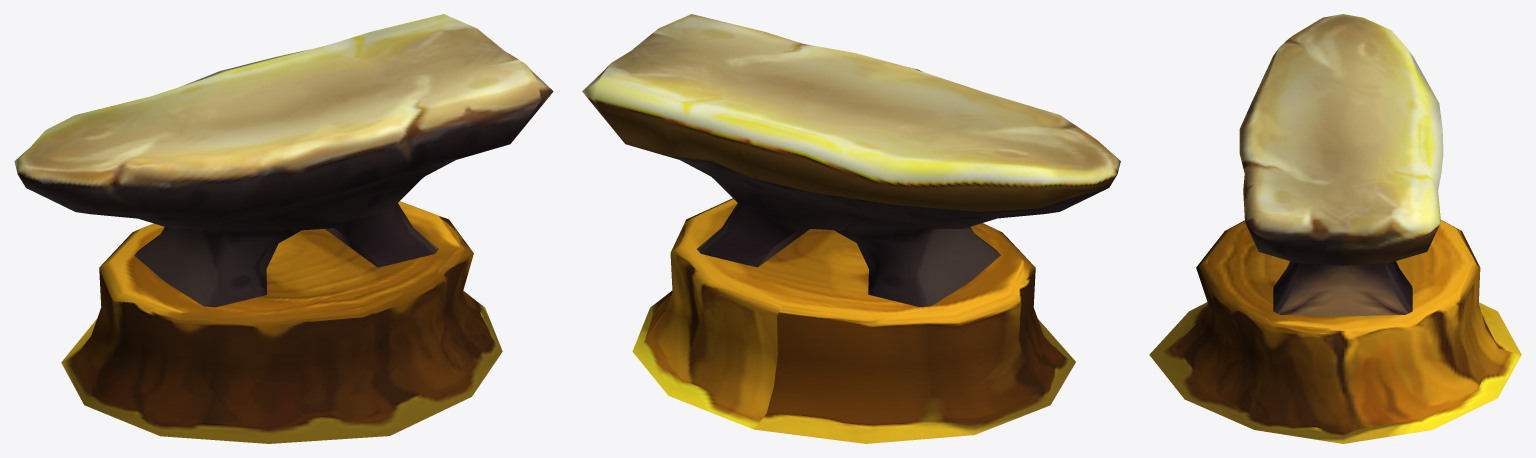
The model's file is Moru.FBX.
The picture shows the model from 3 angles, left to right: view 1: azimuth 30°, elevation 25°; view 2: azimuth 150°, elevation 25°; view 3: azimuth 270°, elevation 25°; orthographic projection. The views are drawn at different scales.
Parts seen in each view (by area): view 1: Moru; view 2: Moru; view 3: Moru.
Boxes of the visible parts, <box> form: Moru: <box>14,14,553,443</box>; Moru: <box>582,14,1120,443</box>; Moru: <box>1149,14,1521,443</box>.
Size of the model in its own units: 193 by 96.88 by 141.
1 material, 1 textured.
